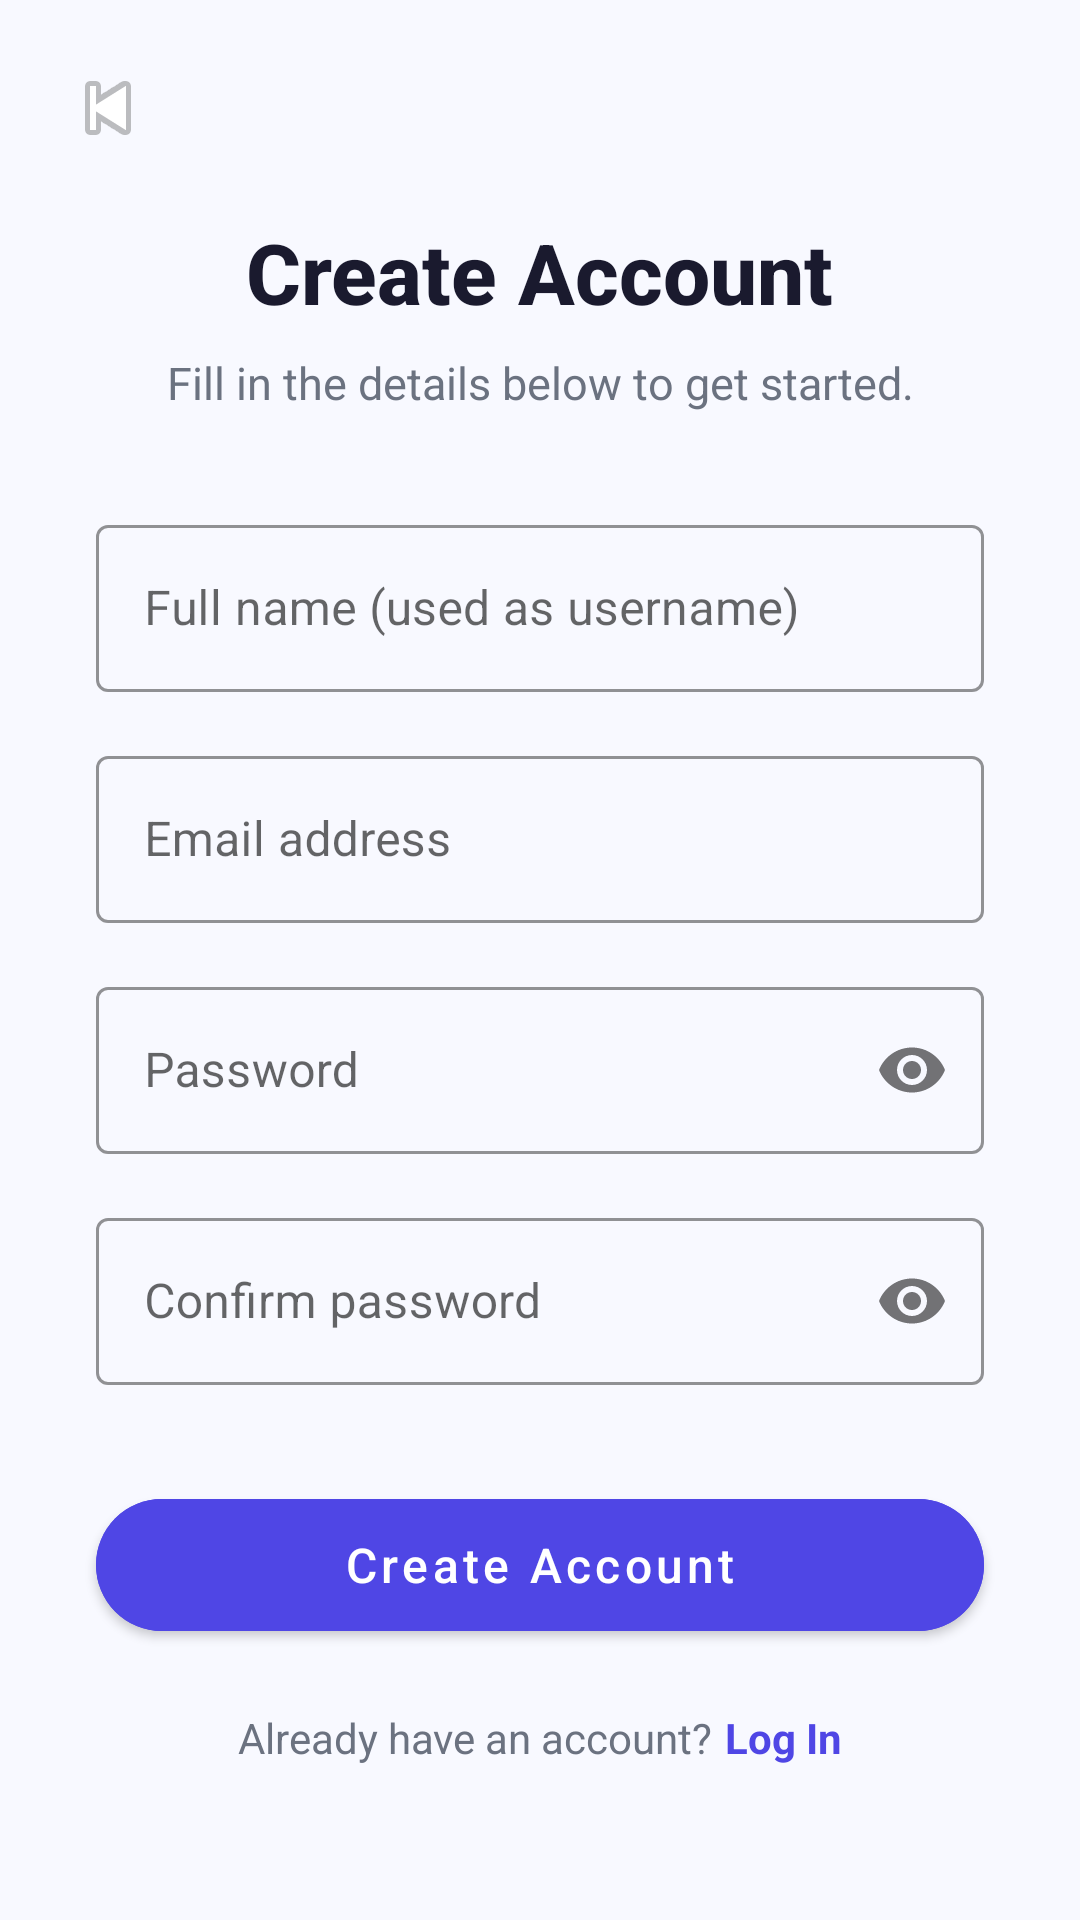

Icon click points for this 1080*1920 phone screenshot, format point (x, y):
Back: point (108, 108)
